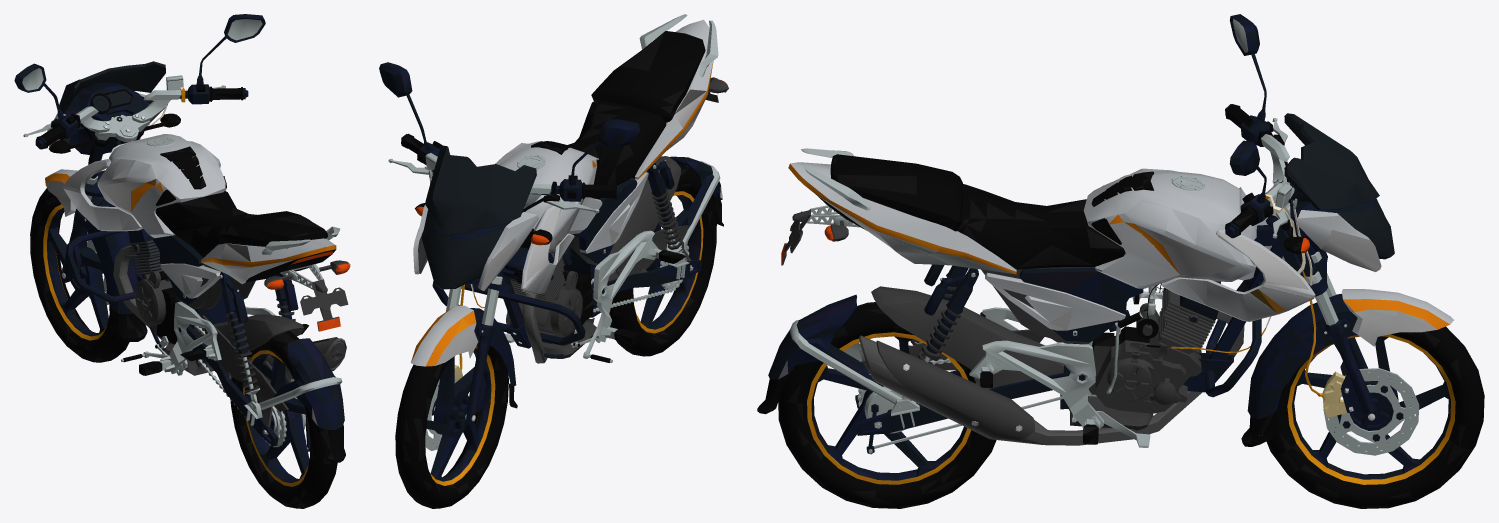
File: moto.glb
The picture shows the model from 3 angles, left to right: view 1: azimuth 30°, elevation 25°; view 2: azimuth 150°, elevation 25°; view 3: azimuth 270°, elevation 25°; orthographic projection. The views are drawn at different scales.
Parts seen in each view (by area): view 1: carroceria_detalle, carroceria_pintura, rueda_del_detalle, rueda_tras_detalle, carroceria_vidrio, horquilla_del_detalle; view 2: carroceria_detalle, rueda_del_detalle, carroceria_pintura, carroceria_vidrio, rueda_tras_detalle, horquilla_del_detalle; view 3: carroceria_detalle, carroceria_pintura, rueda_del_detalle, rueda_tras_detalle, horquilla_del_detalle, carroceria_vidrio.
Part boxes in pixels (left/top/right/bottom): carroceria_detalle: left=14, top=14, right=350, bottom=462; carroceria_pintura: left=47, top=93, right=335, bottom=298; rueda_del_detalle: left=30, top=188, right=129, bottom=362; rueda_tras_detalle: left=230, top=330, right=337, bottom=508; carroceria_vidrio: left=59, top=61, right=165, bottom=113; horquilla_del_detalle: left=46, top=180, right=118, bottom=326; carroceria_detalle: left=379, top=14, right=728, bottom=408; rueda_del_detalle: left=395, top=344, right=508, bottom=508; carroceria_pintura: left=411, top=19, right=713, bottom=366; carroceria_vidrio: left=421, top=145, right=536, bottom=289; rueda_tras_detalle: left=609, top=165, right=716, bottom=356; horquilla_del_detalle: left=432, top=319, right=516, bottom=424; carroceria_detalle: left=757, top=14, right=1449, bottom=454; carroceria_pintura: left=790, top=158, right=1453, bottom=330; rueda_del_detalle: left=1266, top=326, right=1484, bottom=508; rueda_tras_detalle: left=778, top=302, right=996, bottom=508; horquilla_del_detalle: left=1257, top=309, right=1437, bottom=441; carroceria_vidrio: left=1284, top=113, right=1394, bottom=256.
Bounding box in the file's own units: 0.9552 × 1.29 × 2.
